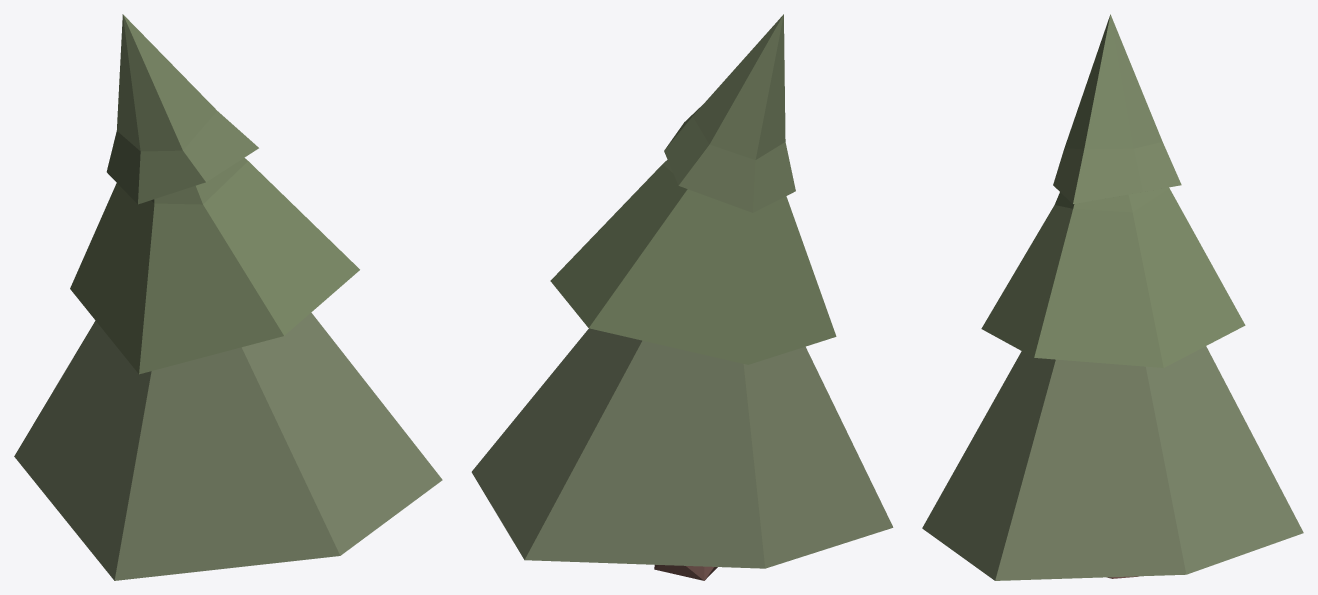
The model's file is spruce7.fbx.
3 renders of one model, left to right at view 1: azimuth 30°, elevation 25°; view 2: azimuth 150°, elevation 25°; view 3: azimuth 270°, elevation 25°, orthographic. The views are drawn at different scales.
Visible parts, largest first — view 1: Cone.001; view 2: Cone.001; view 3: Cone.001.
Boxes of the visible parts, box(x1,y1,x2,y2) form: Cone.001: box(14, 14, 442, 580); Cone.001: box(471, 14, 893, 580); Cone.001: box(922, 14, 1303, 580).
Bounding box in the file's own units: 569 × 947 × 637.
Materials: 1 (1 with a texture image).
